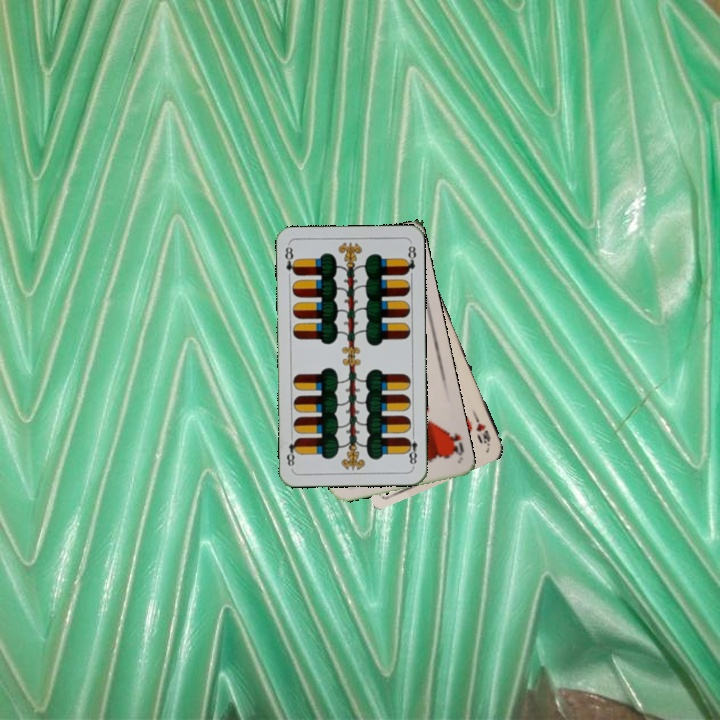E8: (403, 429, 420, 469), (281, 242, 299, 278)
H10: (469, 409, 493, 448)
HO: (444, 428, 466, 458)
